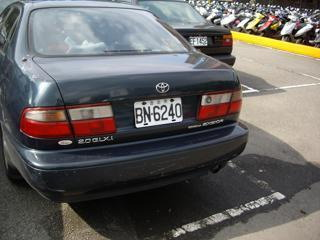plate: (132, 97, 185, 127), (188, 35, 210, 49)
